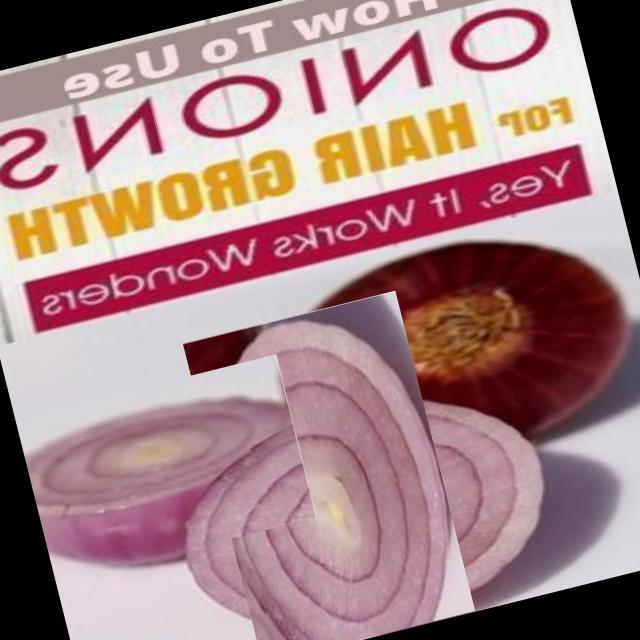Onion: (145, 326, 525, 640), (264, 202, 631, 454), (15, 354, 316, 582)
